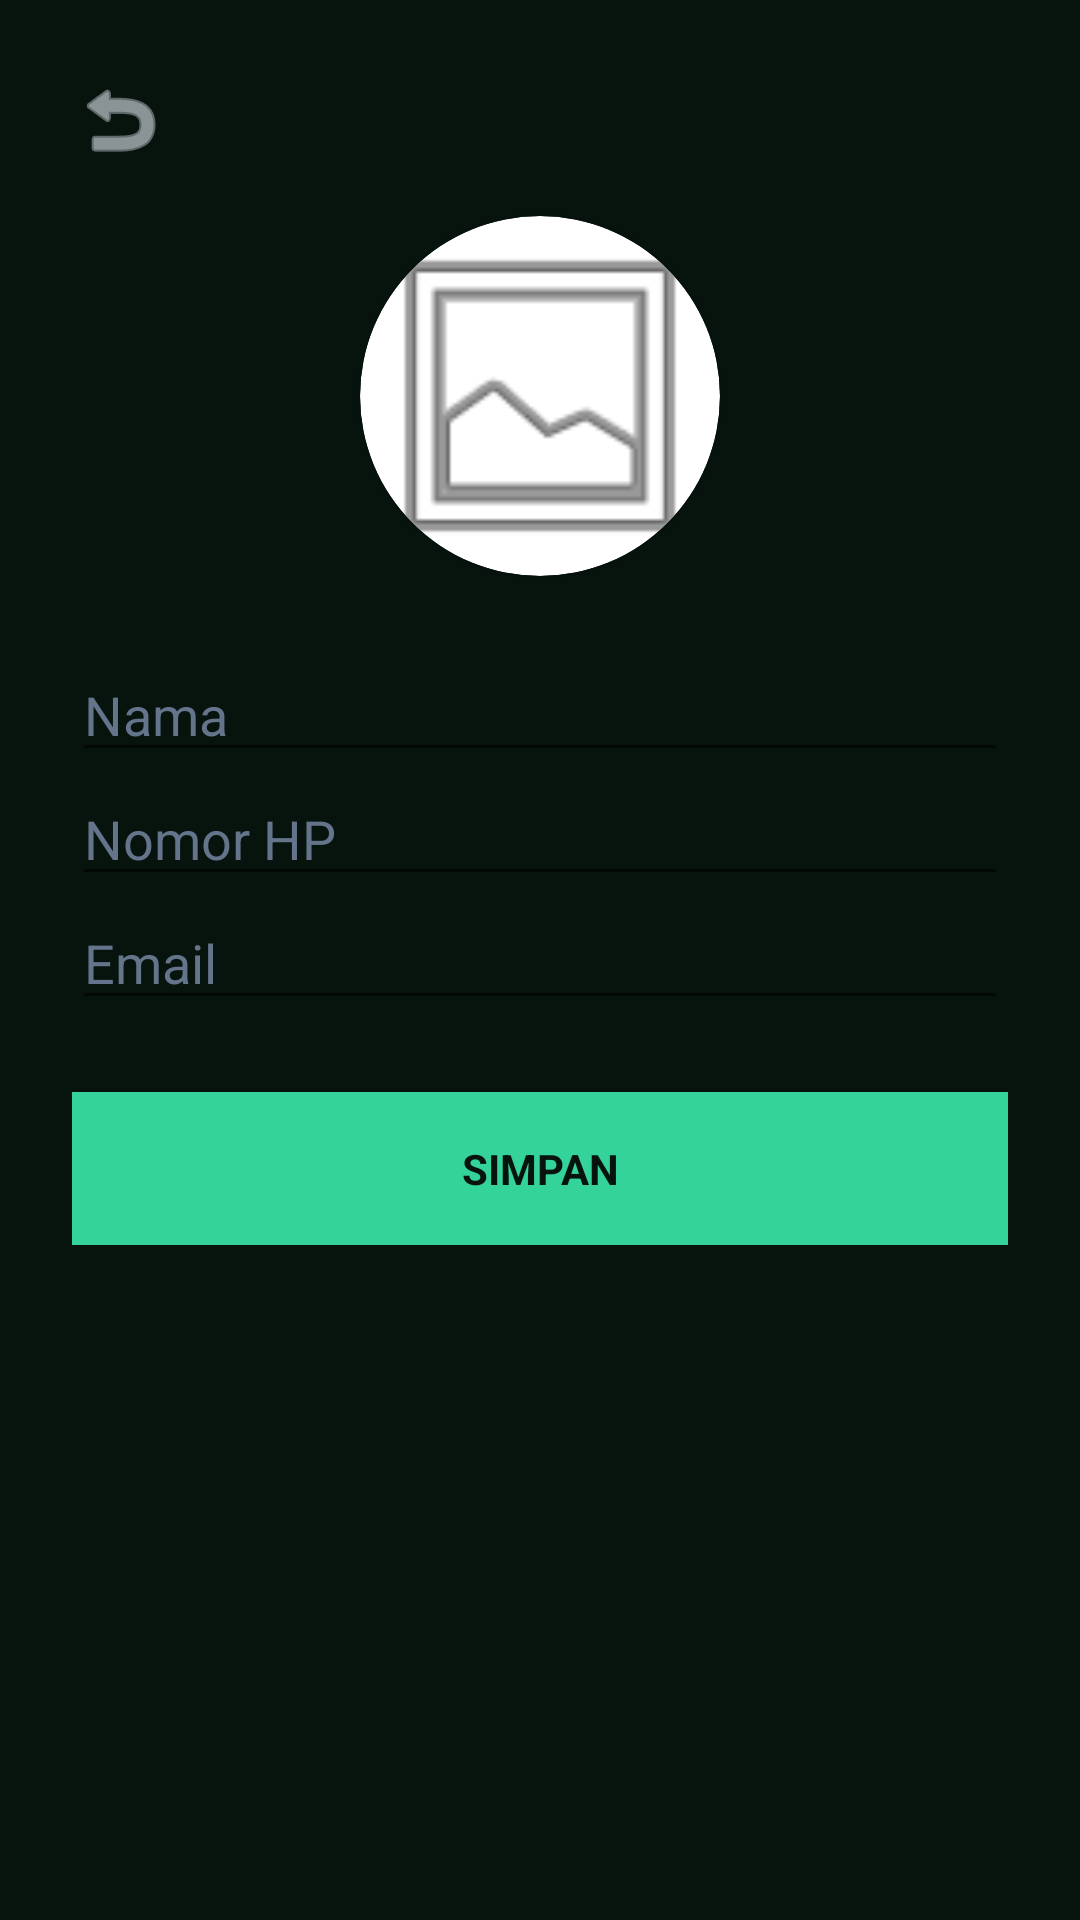

Screen size 1080×1920. Icon name, then its box in pixels as (left=x1, top=y1, right=x2, bottom=y2):
gallery: (left=360, top=216, right=720, bottom=576)
revert: (left=87, top=89, right=156, bottom=152)
